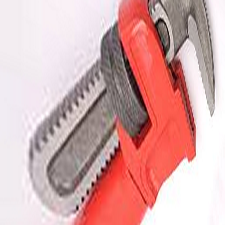Wrench: (30, 1, 214, 225)
